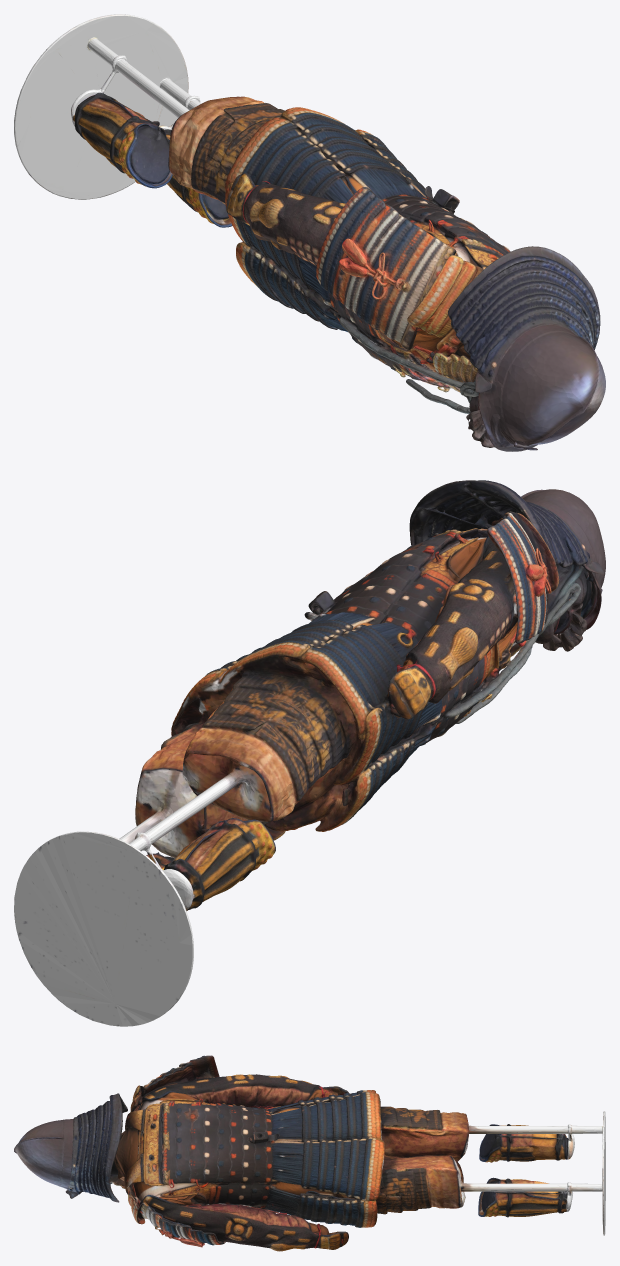
Rendered from Samurai_Armor_Low_Poly.obj.
3 renders of one model, top to bottom at view 1: azimuth 30°, elevation 25°; view 2: azimuth 150°, elevation 25°; view 3: azimuth 270°, elevation 25°, orthographic. The views are drawn at different scales.
Visible parts, largest first — view 1: Copy of Samurai_HighPoly_Watertight; view 2: Copy of Samurai_HighPoly_Watertight; view 3: Copy of Samurai_HighPoly_Watertight.
Part boxes in pixels (x1,y1,x2,y2): Copy of Samurai_HighPoly_Watertight: (14, 14, 605, 451); Copy of Samurai_HighPoly_Watertight: (14, 480, 605, 1026); Copy of Samurai_HighPoly_Watertight: (14, 1055, 605, 1251).
Bounding box in the file's own units: 549 × 536 × 1816.
1 material, 1 textured.
